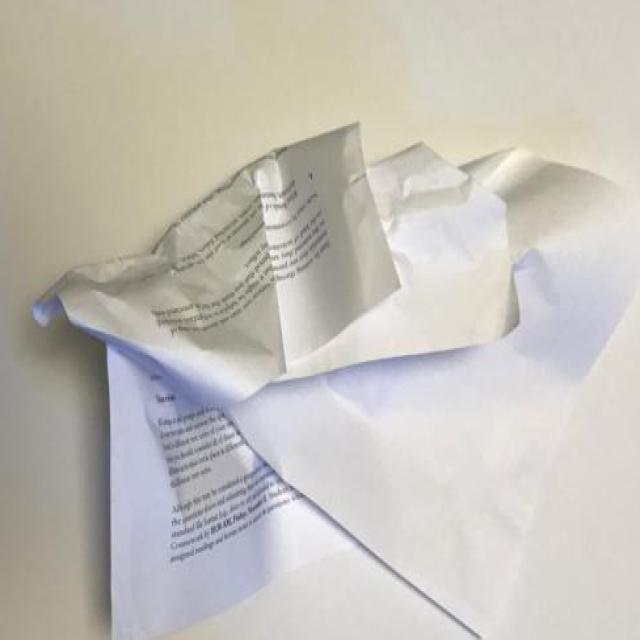kertas: (26, 117, 640, 640)
